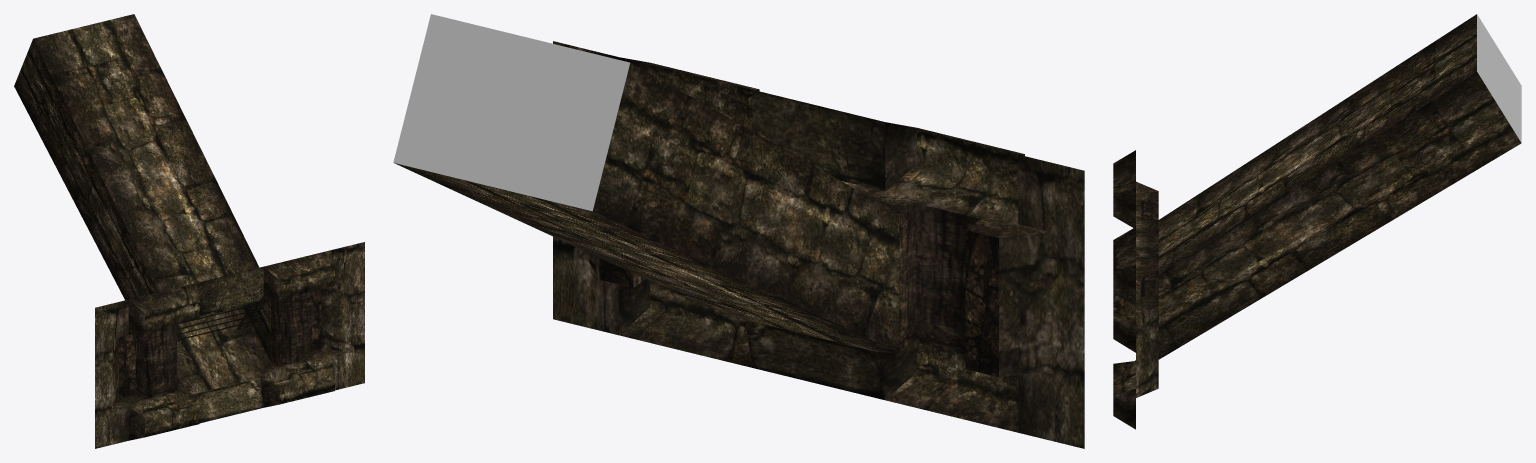
File: corridor_extension_2m_window.dae
The picture shows the model from 3 angles, left to right: view 1: azimuth 30°, elevation 25°; view 2: azimuth 150°, elevation 25°; view 3: azimuth 270°, elevation 25°; orthographic projection. The views are drawn at different scales.
Parts seen in each view (by area): view 1: polySurface1, polySurface7; view 2: polySurface1, polySurface6; view 3: polySurface1, polySurface6.
Boxes of the visible parts, x1,y1,x2,y2 form: polySurface1: (14, 14, 364, 448); polySurface7: (177, 302, 264, 340); polySurface1: (394, 41, 1084, 448); polySurface6: (393, 14, 629, 211); polySurface1: (1113, 14, 1521, 429); polySurface6: (1477, 14, 1521, 142).
Bounding box in the file's own units: 4 × 4 × 4.5.
